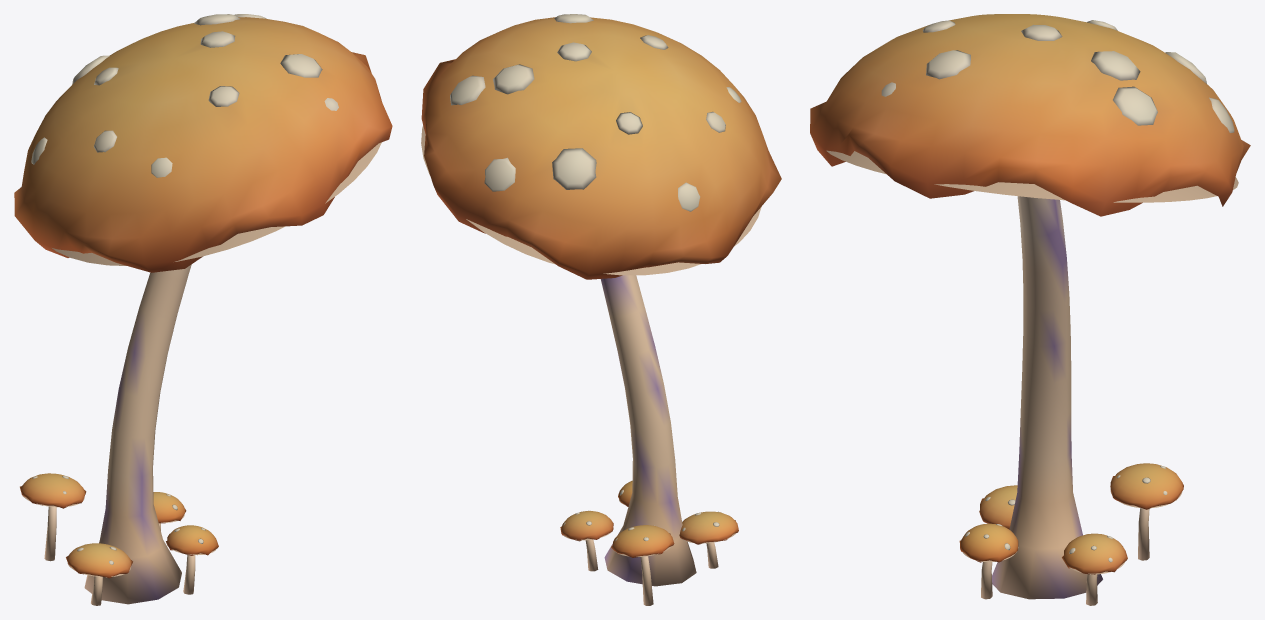
Rendered from verdant_tree_umbrellashroom_c.glb.
3 views of the same model, side by side, from view 1: azimuth 30°, elevation 25°; view 2: azimuth 150°, elevation 25°; view 3: azimuth 270°, elevation 25° (orthographic). The views are drawn at different scales.
Parts seen in each view (by area): view 1: verdant_tree_umbrellashroom_c; view 2: verdant_tree_umbrellashroom_c; view 3: verdant_tree_umbrellashroom_c.
Part boxes in pixels (<box>): verdant_tree_umbrellashroom_c: <box>14,14,392,605</box>; verdant_tree_umbrellashroom_c: <box>421,14,781,605</box>; verdant_tree_umbrellashroom_c: <box>810,14,1250,605</box>.
Size of the model in its own units: 6.85 by 10.76 by 7.14.
